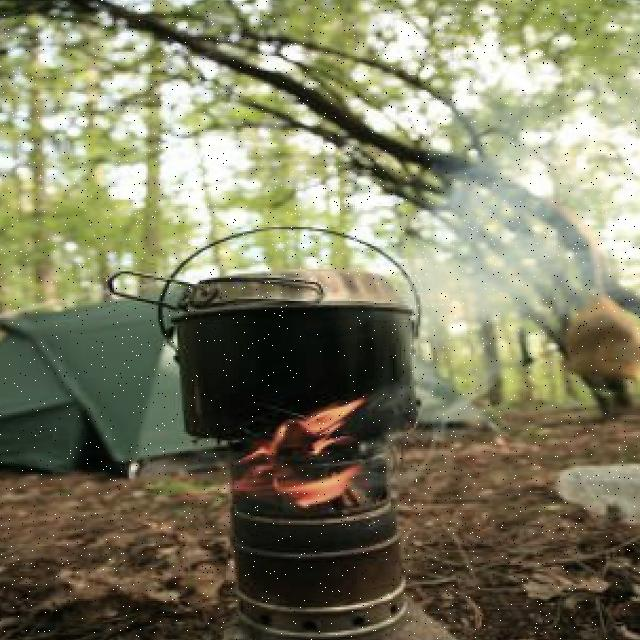fire: (167, 396, 372, 519)
smoke: (412, 138, 623, 326)
